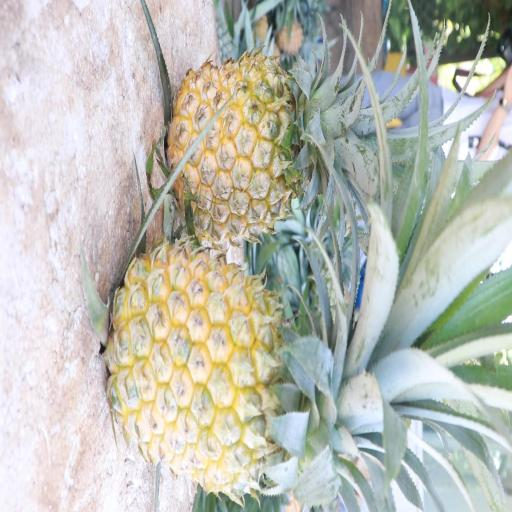Pineapple - v8 v1: (98, 238, 388, 496), (162, 44, 362, 253), (216, 154, 226, 158), (223, 112, 232, 112)
